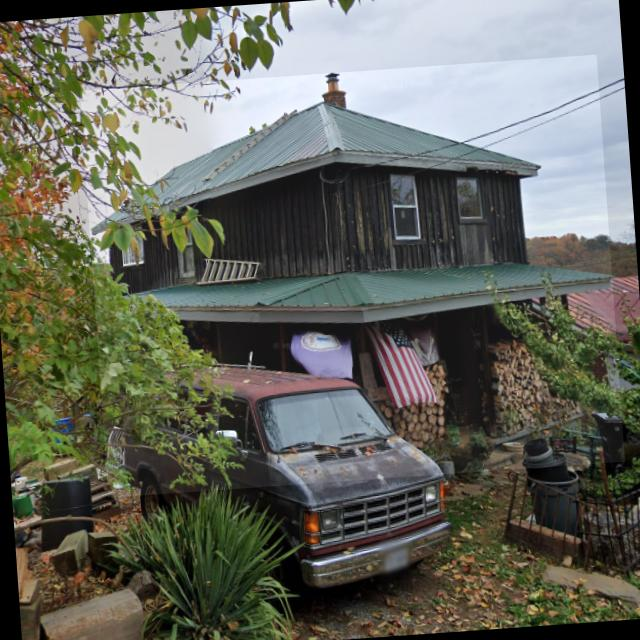House: (80, 54, 624, 498)
